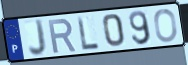0: (101, 13, 127, 48)
9: (128, 9, 152, 46)
J: (28, 18, 48, 58)
L: (76, 15, 101, 52)
O: (153, 7, 179, 43)
R: (46, 18, 77, 55)
